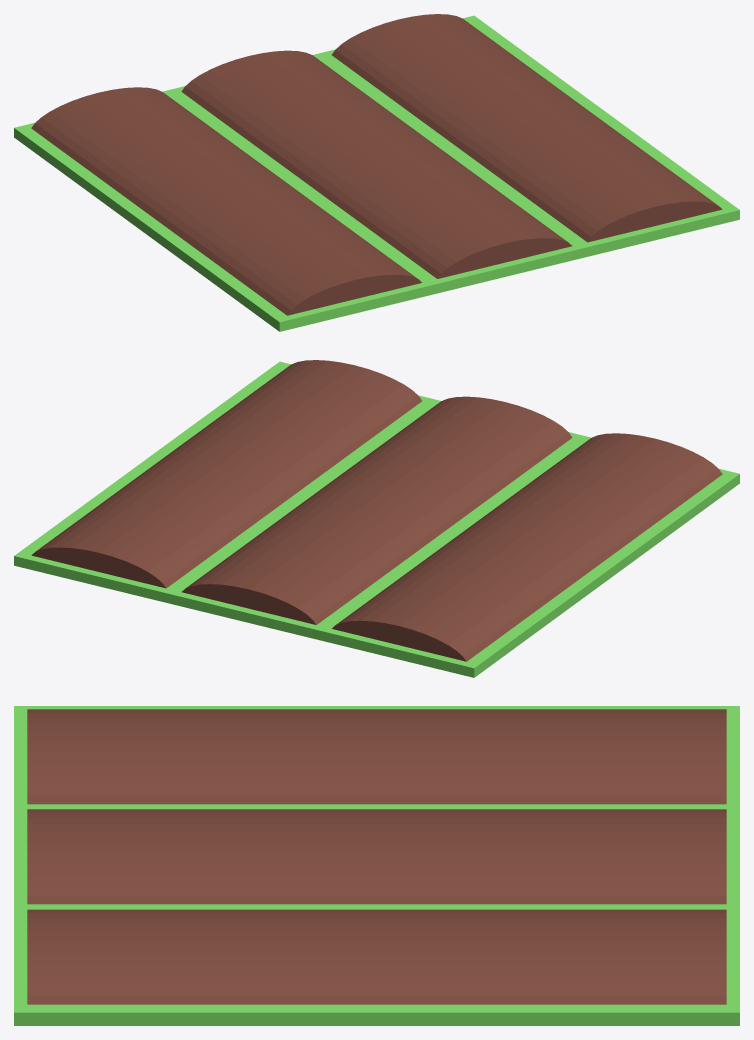
File: plowing_field.fbx
The picture shows the model from 3 angles, top to bottom: view 1: azimuth 30°, elevation 25°; view 2: azimuth 150°, elevation 25°; view 3: azimuth 270°, elevation 25°; orthographic projection. The views are drawn at different scales.
Parts seen in each view (by area): view 1: Path(1), Path(3), Path(2), Plowing Field Material; view 2: Path(1), Path(3), Path(2), Plowing Field Material; view 3: Path(2), Path(3), Path(1), Plowing Field Material.
Part boxes in pixels (x1,y1,x2,y2): Path(1): (31,87,421,315); Path(3): (332,14,722,242); Path(2): (181,50,572,278); Plowing Field Material: (14,15,739,331); Path(1): (332,433,722,661); Path(3): (31,360,421,588); Path(2): (181,396,572,624); Plowing Field Material: (14,361,739,677); Path(2): (27,809,726,904); Path(3): (27,909,726,1004); Path(1): (27,709,726,804); Plowing Field Material: (14,706,739,1025).
Bounding box in the file's own units: 200 × 12 × 200.
